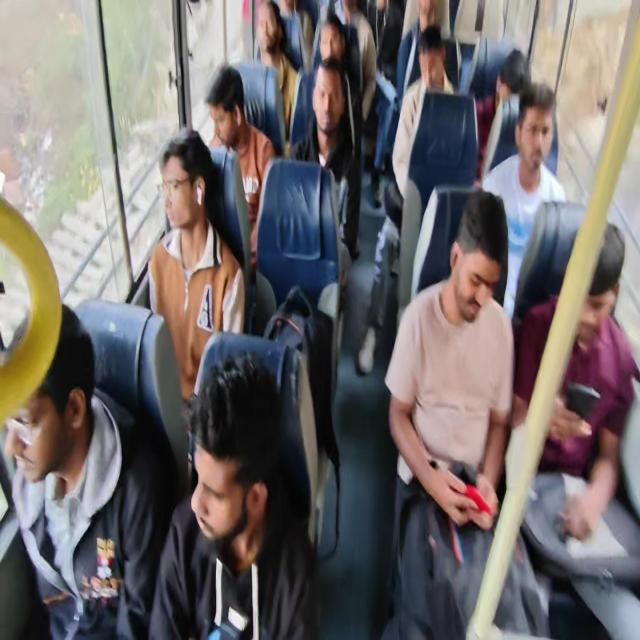person: (0, 294, 96, 522), (194, 365, 272, 557), (446, 196, 501, 349), (572, 190, 614, 353), (156, 138, 198, 231), (498, 47, 538, 131), (210, 63, 244, 158), (523, 96, 553, 180), (412, 36, 443, 108), (312, 72, 342, 133), (316, 15, 344, 80), (256, 0, 283, 63), (415, 0, 434, 35)
